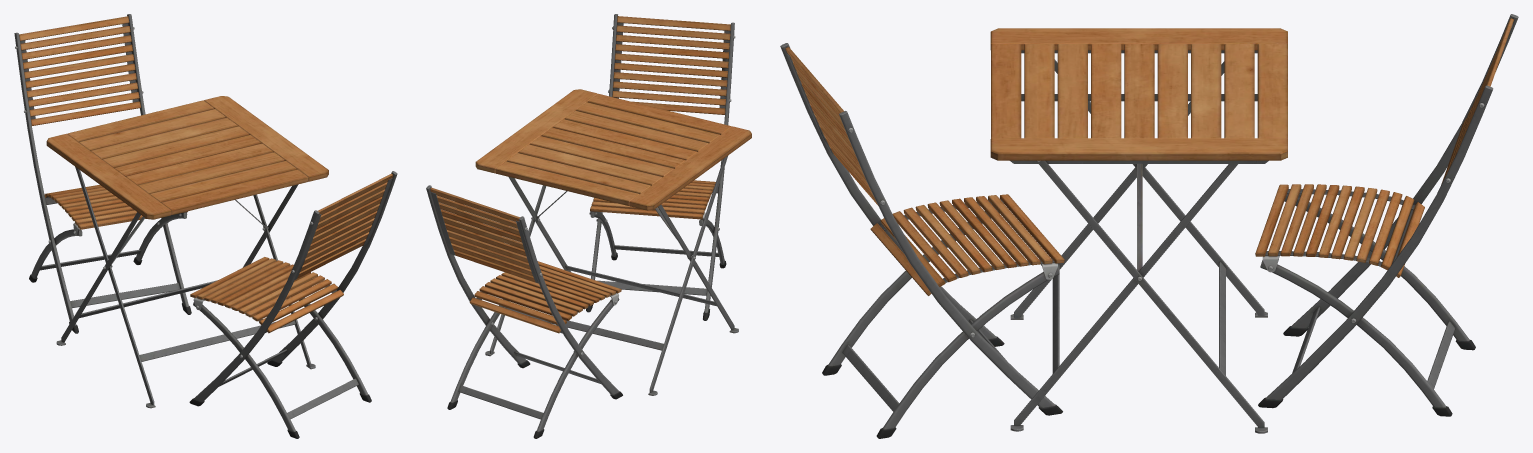
File: outdoor_table_chair_set_01.glb
3 views of the same model, side by side, from view 1: azimuth 30°, elevation 25°; view 2: azimuth 150°, elevation 25°; view 3: azimuth 270°, elevation 25° (orthographic). The views are drawn at different scales.
Parts seen in each view (by area): view 1: outdoor_table_chair_set_01_chair_01, outdoor_table_chair_set_01_table; view 2: outdoor_table_chair_set_01_chair_01, outdoor_table_chair_set_01_table; view 3: outdoor_table_chair_set_01_table, outdoor_table_chair_set_01_chair_01.
Part boxes in pixels (x1,y1,x2,y2): outdoor_table_chair_set_01_chair_01: (14,14,397,438); outdoor_table_chair_set_01_table: (46,96,328,408); outdoor_table_chair_set_01_chair_01: (426,14,735,438); outdoor_table_chair_set_01_table: (475,89,751,395); outdoor_table_chair_set_01_table: (990,28,1287,433); outdoor_table_chair_set_01_chair_01: (780,14,1518,438).
Bounding box in the file's own units: 0.7417 × 0.8587 × 1.72.
2 materials, 2 textured.
